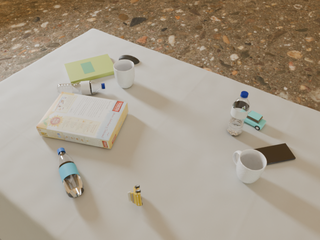book: (64, 54, 115, 83)
bottle: (57, 148, 84, 198), (227, 91, 250, 136), (57, 80, 105, 96)
box: (37, 91, 128, 149)
cup: (233, 149, 267, 183), (114, 60, 135, 88)
mouse: (119, 55, 139, 64)
phone: (255, 143, 296, 165)
toy_car: (245, 111, 266, 130), (128, 185, 142, 206)
